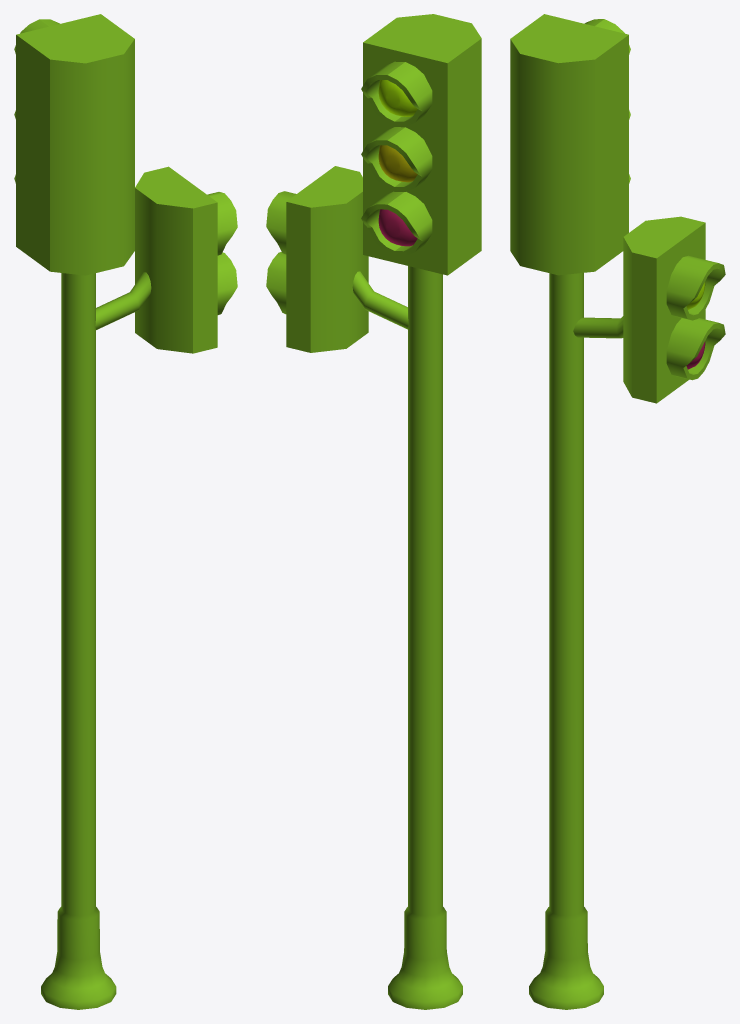
The model's file is SM_Streetlight.fbx.
3 views of the same model, side by side, from view 1: azimuth 30°, elevation 25°; view 2: azimuth 150°, elevation 25°; view 3: azimuth 330°, elevation 25° (orthographic).
Parts seen in each view (by area): view 1: SM_Streetlight; view 2: SM_Streetlight; view 3: SM_Streetlight.
Boxes of the visible parts, bbox=[...] form: SM_Streetlight: bbox=[14, 14, 237, 1009]; SM_Streetlight: bbox=[266, 14, 481, 1009]; SM_Streetlight: bbox=[510, 14, 725, 1009].
Size of what is drawn, in the model's own units: 86.88 by 420 by 52.13.
